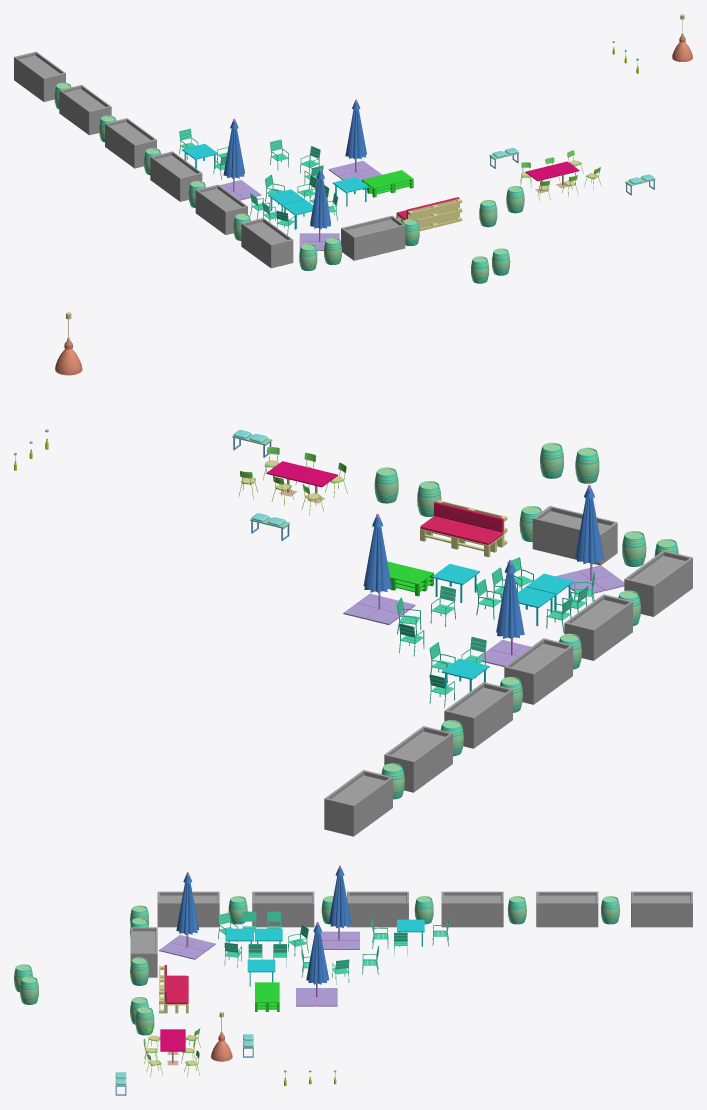
The model's file is R02_vinothek_distribute.fbx.
3 views of the same model, one above another, from view 1: azimuth 30°, elevation 25°; view 2: azimuth 150°, elevation 25°; view 3: azimuth 270°, elevation 25° (orthographic). The views are drawn at different scales.
Parts seen in each view (by area): view 1: flowerBoxA1, flowerBoxA2, flowerBoxA6, flowerBoxA7, flowerBoxA5, flowerBoxA4, flowerBoxA3, schirm03, outerBench02, schirm02, schirm01, outerTableA1 (+8 smaller); view 2: flowerBoxA7, outerBench02, flowerBoxA2, flowerBoxA3, flowerBoxA4, flowerBoxA5, flowerBoxA1, flowerBoxA6, schirm03, schirm01, schirm02, outerTableA1 (+3 smaller); view 3: flowerBoxA6, flowerBoxA5, flowerBoxA7, flowerBoxA3, flowerBoxA4, flowerBoxA2, schirm01, schirm03, schirm02, outerBench02, flowerBoxA1, outerTableA1 (+13 smaller).
Part boxes in pixels (<box>): flowerBoxA1: <box>341,215,405,260</box>; flowerBoxA2: <box>241,218,293,268</box>; flowerBoxA6: <box>59,85,111,135</box>; flowerBoxA7: <box>14,51,65,101</box>; flowerBoxA5: <box>105,118,156,168</box>; flowerBoxA4: <box>150,151,202,201</box>; flowerBoxA3: <box>195,184,247,234</box>; schirm03: <box>328,99,381,180</box>; outerBench02: <box>396,197,462,231</box>; schirm02: <box>219,118,261,200</box>; schirm01: <box>299,169,339,250</box>; outerTableA1: <box>362,170,413,197</box>; flowerBoxA7: <box>324,770,392,836</box>; outerBench02: <box>420,500,507,557</box>; flowerBoxA2: <box>624,550,692,616</box>; flowerBoxA3: <box>564,594,632,660</box>; flowerBoxA4: <box>504,638,572,704</box>; flowerBoxA5: <box>444,682,512,748</box>; flowerBoxA1: <box>532,506,617,565</box>; flowerBoxA6: <box>384,726,452,792</box>; schirm03: <box>343,513,415,624</box>; schirm01: <box>555,484,624,593</box>; schirm02: <box>479,559,531,666</box>; outerTableA1: <box>387,561,433,596</box>; flowerBoxA6: <box>536,891,598,927</box>; flowerBoxA5: <box>441,891,503,927</box>; flowerBoxA7: <box>631,891,692,927</box>; flowerBoxA3: <box>252,891,314,927</box>; flowerBoxA4: <box>347,891,408,927</box>; flowerBoxA2: <box>157,891,219,927</box>; schirm01: <box>159,872,215,959</box>; schirm03: <box>296,922,337,1006</box>; schirm02: <box>320,865,359,949</box>; outerBench02: <box>159,965,188,1013</box>; flowerBoxA1: <box>130,927,157,977</box>; outerTableA1: <box>255,982,279,1011</box>.
Bounding box in the file's own units: 1960 × 510 × 2453.
